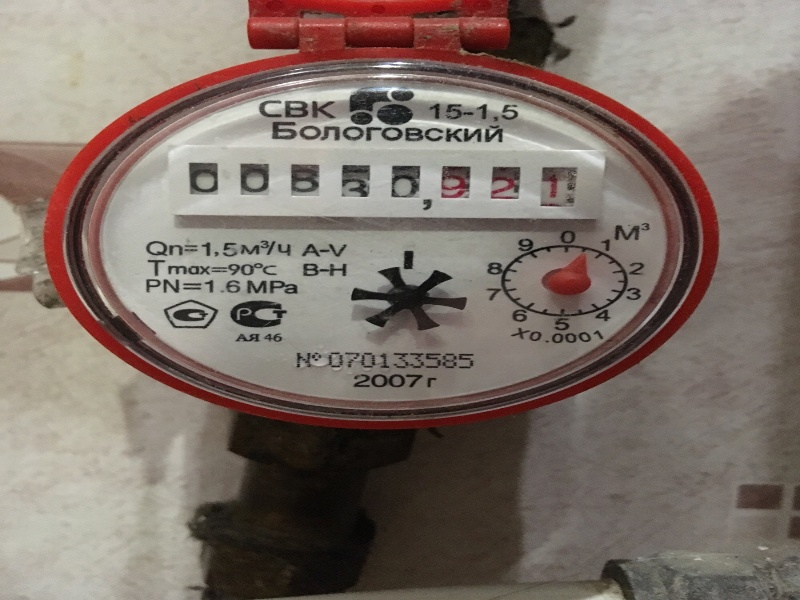meter: (180, 149, 594, 217)
